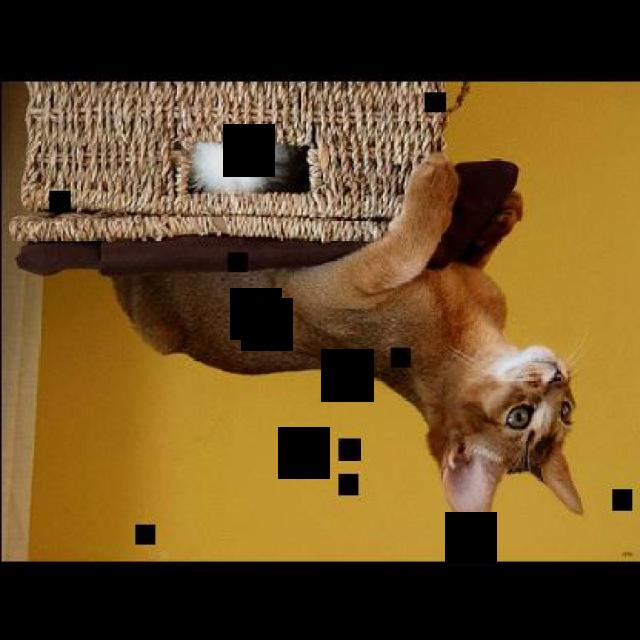unauthorized: (108, 148, 586, 532)
